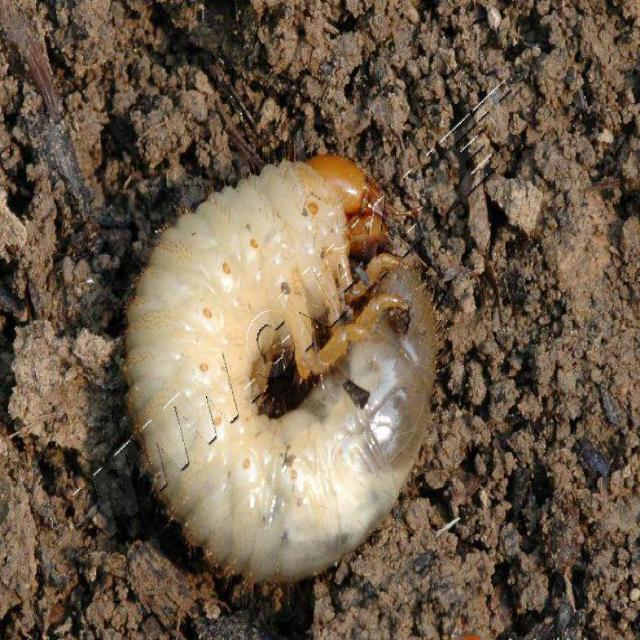Grub-Adult-: (103, 142, 456, 575)
